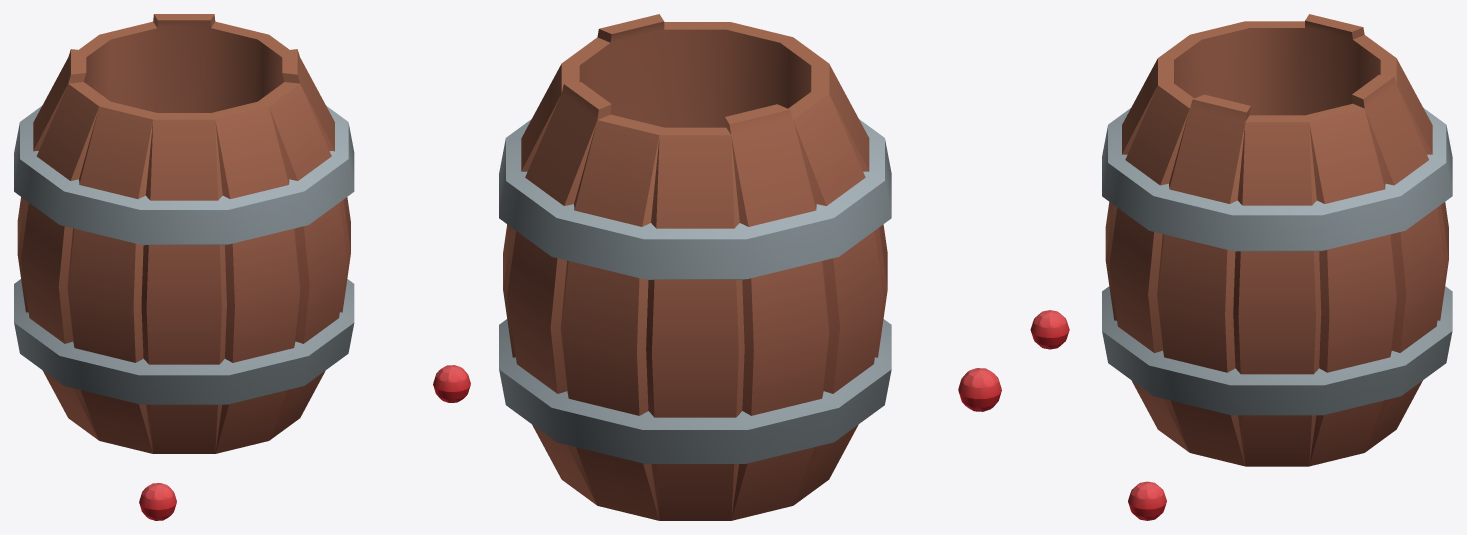
File: apple_barrel_2.glb
3 renders of one model, left to right at view 1: azimuth 30°, elevation 25°; view 2: azimuth 150°, elevation 25°; view 3: azimuth 270°, elevation 25°, orthographic. The views are drawn at different scales.
Parts seen in each view (by area): view 1: apple_barrel_2; view 2: apple_barrel_2; view 3: apple_barrel_2.
Boxes of the visible parts, left/top/right/bottom form: apple_barrel_2: left=14, top=14, right=470, bottom=520; apple_barrel_2: left=499, top=14, right=1001, bottom=520; apple_barrel_2: left=1030, top=14, right=1452, bottom=520.
Size of the model in its own units: 1.37 by 1.2 by 1.3.
2 materials, 2 textured.
